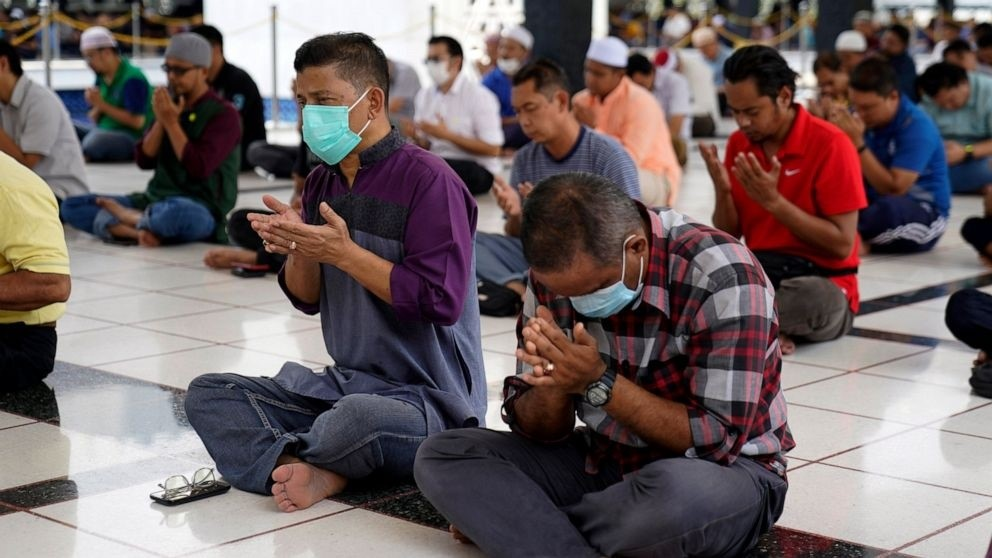face_no_mask: (717, 40, 798, 151), (506, 61, 575, 147), (842, 55, 899, 129), (921, 58, 970, 108), (812, 52, 848, 95)
face_with_mask: (516, 174, 650, 325), (291, 26, 393, 167), (418, 35, 461, 87)
